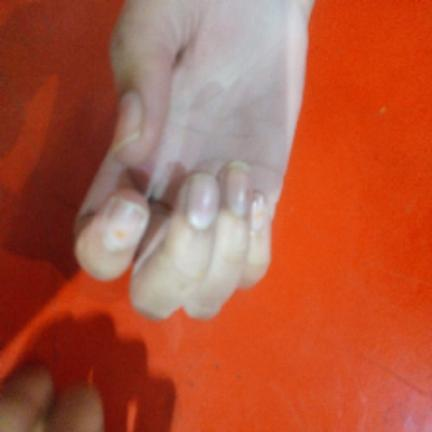Nail: (100, 194, 149, 251), (110, 90, 143, 154), (187, 173, 219, 230), (225, 161, 251, 216), (250, 192, 268, 231)
